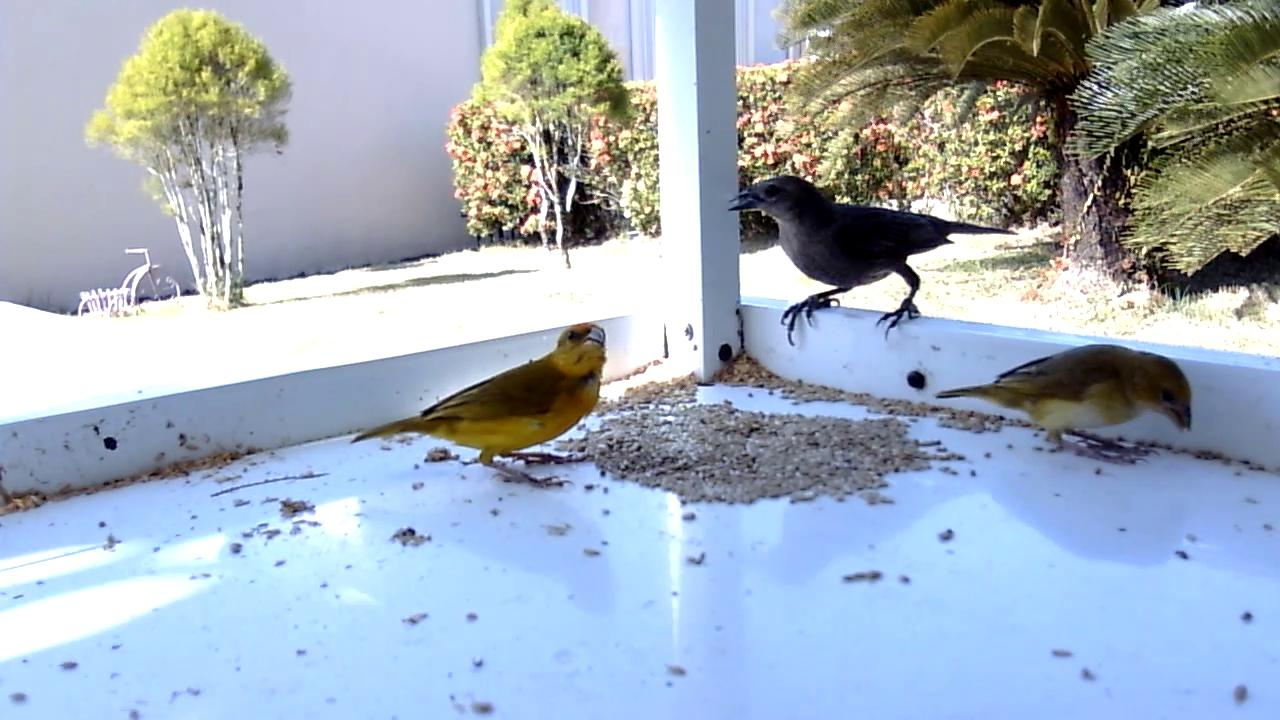canario_do_amazonas: (349, 321, 610, 492), (935, 343, 1196, 468)
chupim: (727, 175, 1022, 350)
